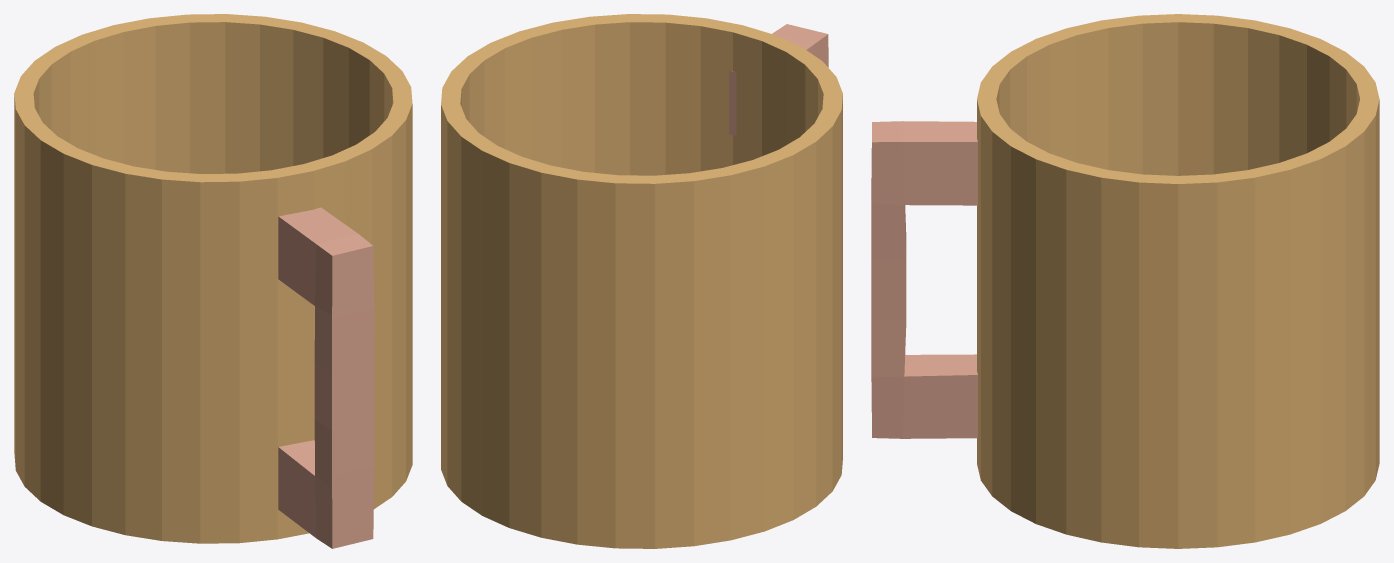
File: Mug.fbx
3 renders of one model, left to right at view 1: azimuth 30°, elevation 25°; view 2: azimuth 150°, elevation 25°; view 3: azimuth 270°, elevation 25°, orthographic.
Visible parts, largest first — view 1: Cylinder.001, Cubourd Handle 1.001; view 2: Cylinder.001, Cubourd Handle 1.001; view 3: Cylinder.001, Cubourd Handle 1.001.
Boxes of the visible parts, x1,y1,x2,y2 form: Cylinder.001: (14, 14, 412, 543); Cubourd Handle 1.001: (278, 207, 374, 548); Cylinder.001: (441, 14, 842, 548); Cubourd Handle 1.001: (729, 24, 828, 135); Cylinder.001: (977, 14, 1379, 548); Cubourd Handle 1.001: (871, 121, 977, 438).
Bounding box in the file's own units: 9.13 × 9.13 × 11.52.
